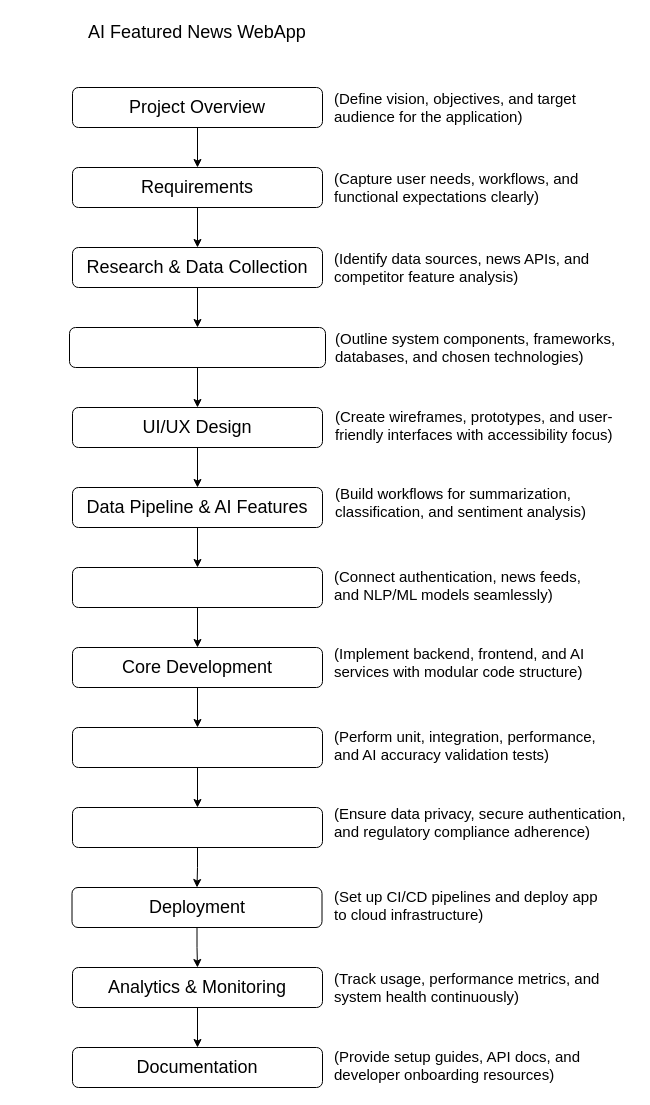
The diagram is 650 pixels wide and 1105 high, and some of its shapes have lost their labels. Here are the shapes that lost their labels. From the top down, the centre of each, then its label:
At (x=197, y=347): "System Architecture & Tech Stack".
At (x=197, y=587): "API & AI Integration".
At (x=197, y=747): "Testing".
At (x=197, y=827): "Security & Compliance".
